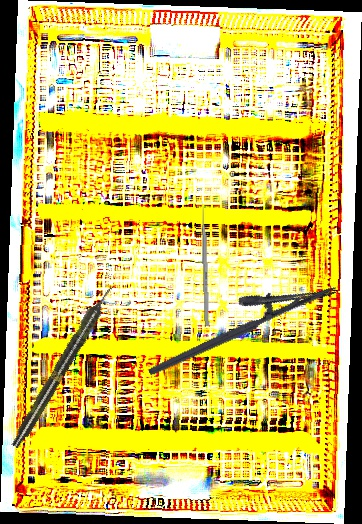Handpiece: (7, 282, 119, 451)
Needle Holder: (136, 259, 339, 378)
Pusher: (200, 200, 210, 327)
